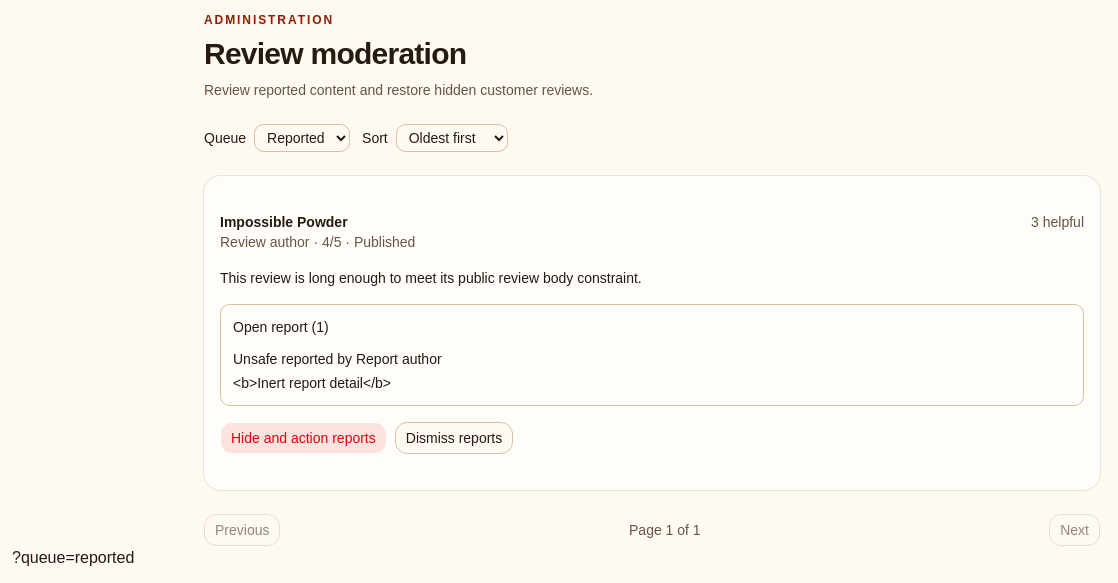
it: AdminReviewModerationPage › ignores a stale queue completion after URL state changes
The width and height of the screenshot is (1118, 583).
Check: the heading "Impossible Powder" is shown, box [220,214,348,230]
Select "Hidden" in the dropdown labelled "Queue" at (302, 138), box [254,124,350,152]
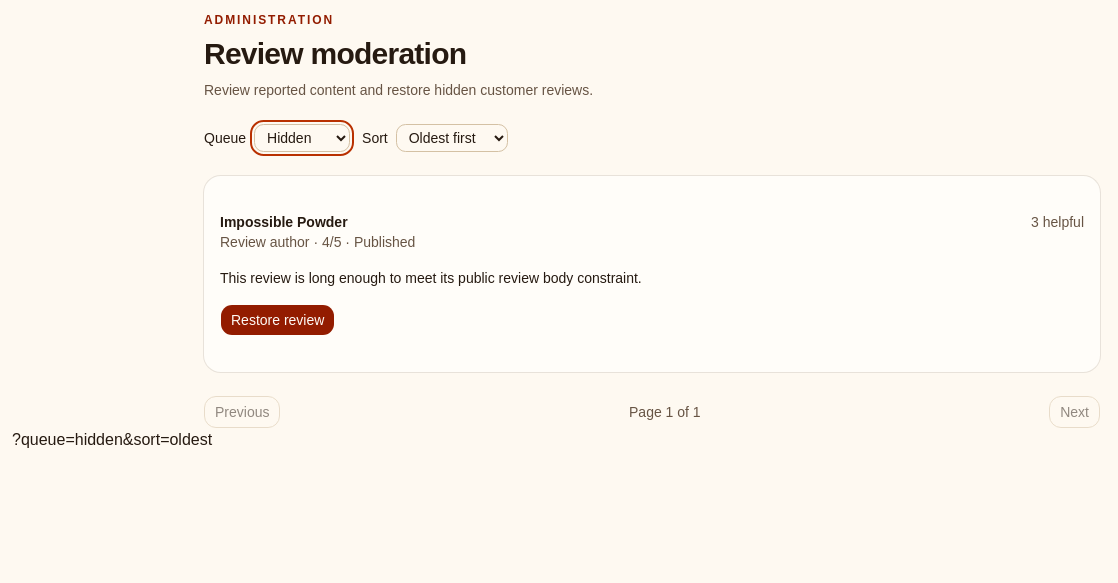
Select "Reported" in the dropdown labelled "Queue" at (302, 138), box [254,124,350,152]
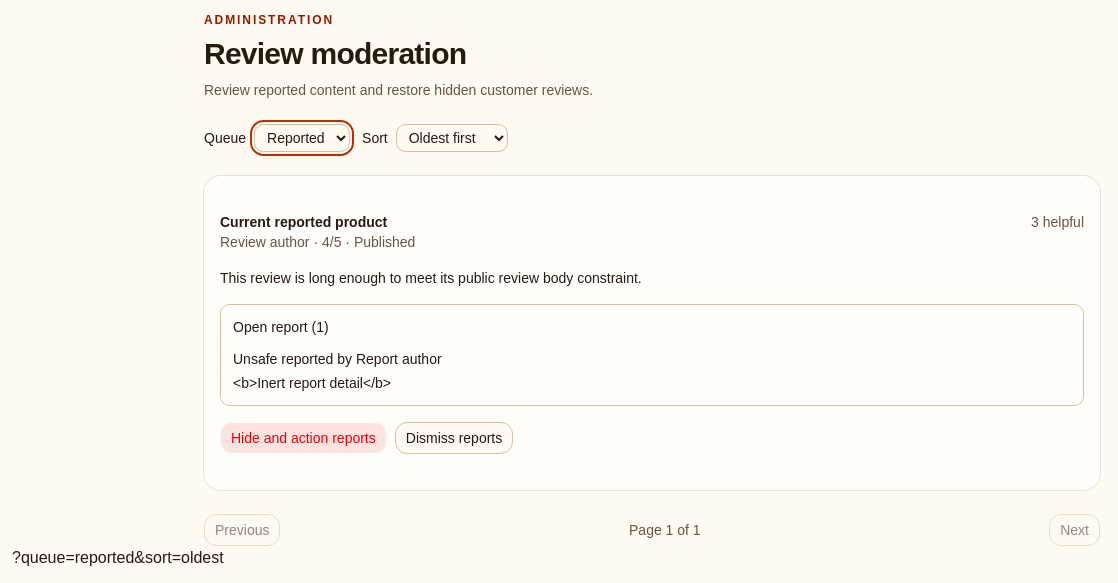
Check: the heading "Current reported product" is shown, box [220,212,415,232]
